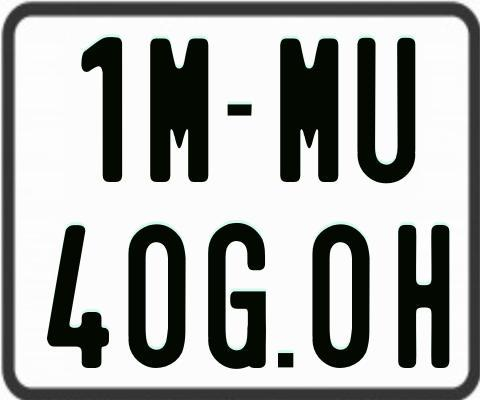0: (310, 222, 374, 372), (125, 224, 183, 370)
1: (78, 36, 124, 181)
4: (47, 225, 114, 373)
G: (208, 220, 271, 366)
H: (398, 224, 449, 368)
M: (280, 37, 341, 187), (149, 38, 210, 186)
U: (356, 38, 416, 189)
